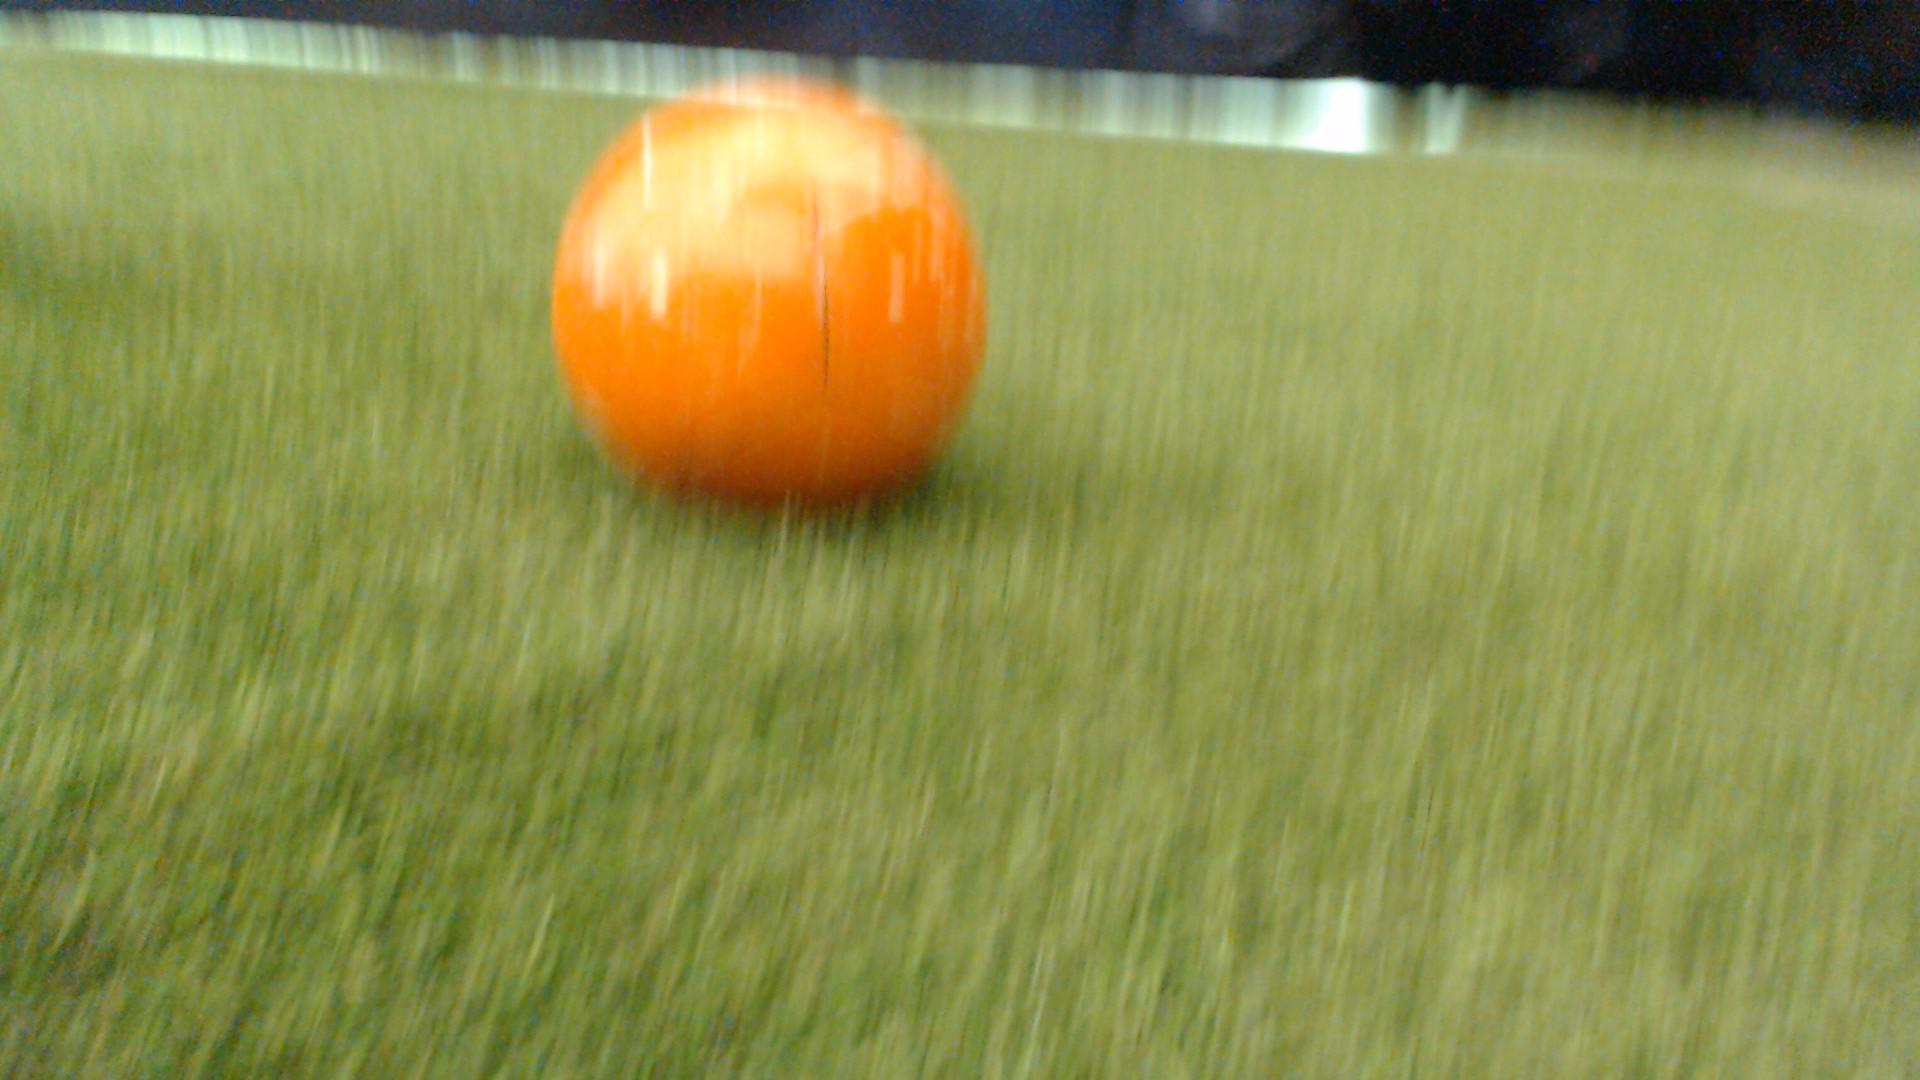bola: (488, 76, 1027, 555)
